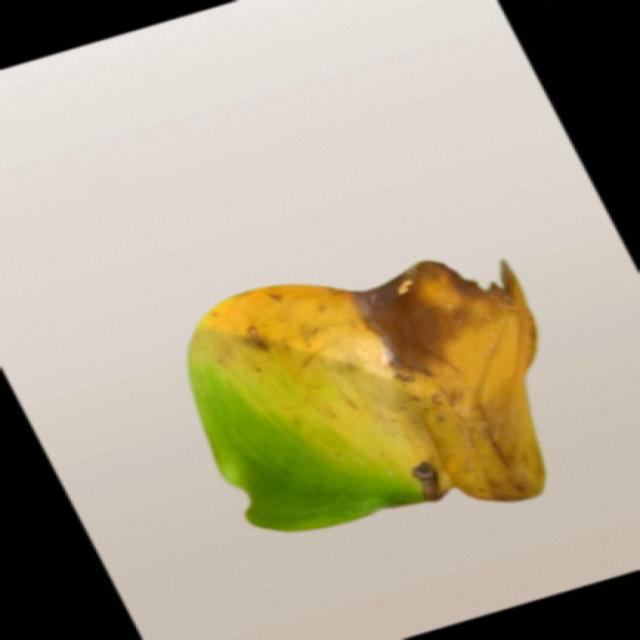daun berpenyakit kuning: (189, 262, 545, 531)
